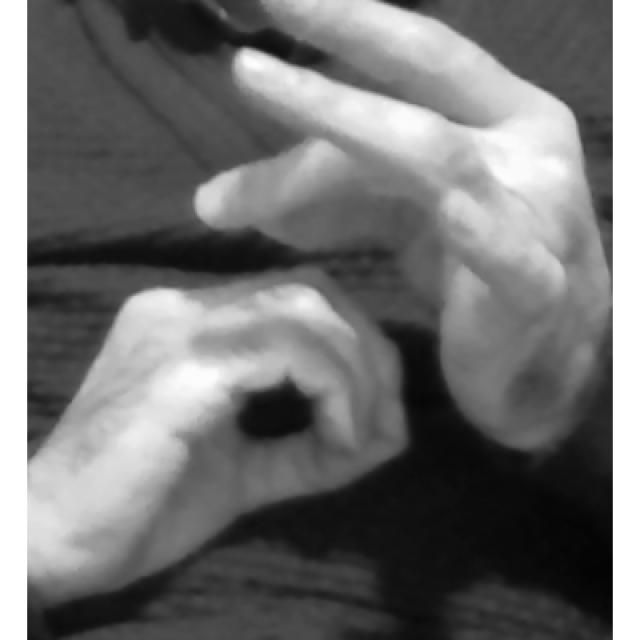O--: (28, 30, 611, 614)
